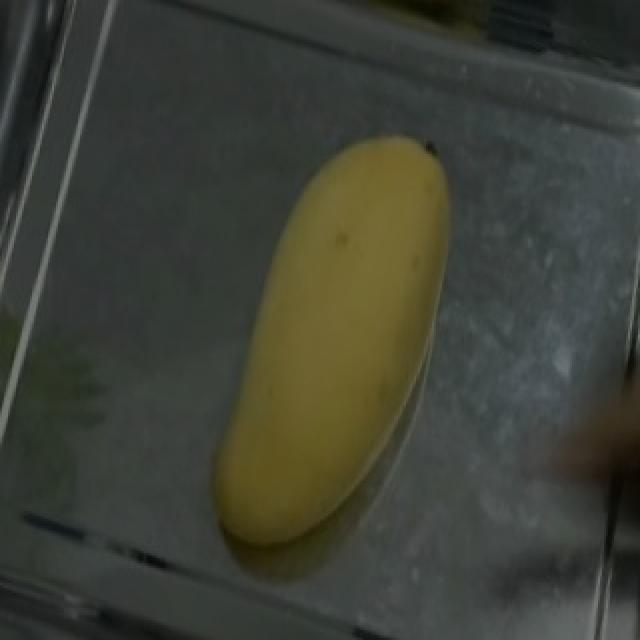fruit: (244, 104, 542, 496)
